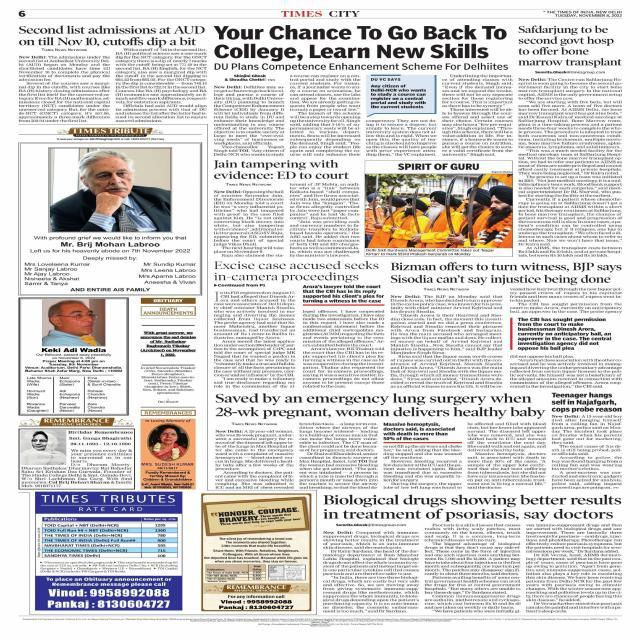Article: (208, 22, 516, 158), (319, 494, 626, 616), (210, 391, 548, 491), (388, 258, 626, 389), (516, 21, 627, 259), (211, 258, 386, 390), (13, 22, 209, 125), (211, 158, 361, 258), (548, 390, 627, 490)
Body: (518, 76, 624, 258), (390, 294, 504, 388), (524, 523, 624, 614), (424, 523, 521, 614), (322, 530, 421, 614), (215, 289, 298, 388), (115, 48, 208, 124), (300, 308, 386, 388), (16, 54, 110, 124), (440, 72, 514, 156), (288, 74, 362, 157), (298, 420, 379, 490), (289, 182, 361, 258), (552, 414, 624, 490), (466, 422, 547, 489), (213, 85, 285, 156), (212, 189, 286, 258), (214, 428, 296, 490), (509, 354, 624, 389), (382, 443, 463, 490), (510, 286, 626, 314), (366, 118, 437, 156)
Date: (554, 12, 622, 18)
Heading: (210, 24, 509, 62), (214, 392, 546, 420), (322, 494, 622, 522), (389, 260, 622, 286), (516, 22, 623, 68), (15, 24, 205, 48), (213, 260, 380, 282), (214, 158, 354, 180), (549, 391, 623, 413)
Highlights: (518, 317, 616, 351), (213, 62, 510, 70), (138, 366, 198, 396), (140, 328, 199, 358), (301, 284, 384, 304), (370, 83, 428, 109), (383, 422, 458, 442), (396, 162, 482, 171)
Image: (34, 492, 182, 610), (203, 493, 311, 611), (366, 174, 513, 248), (49, 148, 171, 232), (140, 419, 195, 488), (42, 299, 106, 346), (21, 431, 66, 465)
Name: (281, 10, 360, 18)
